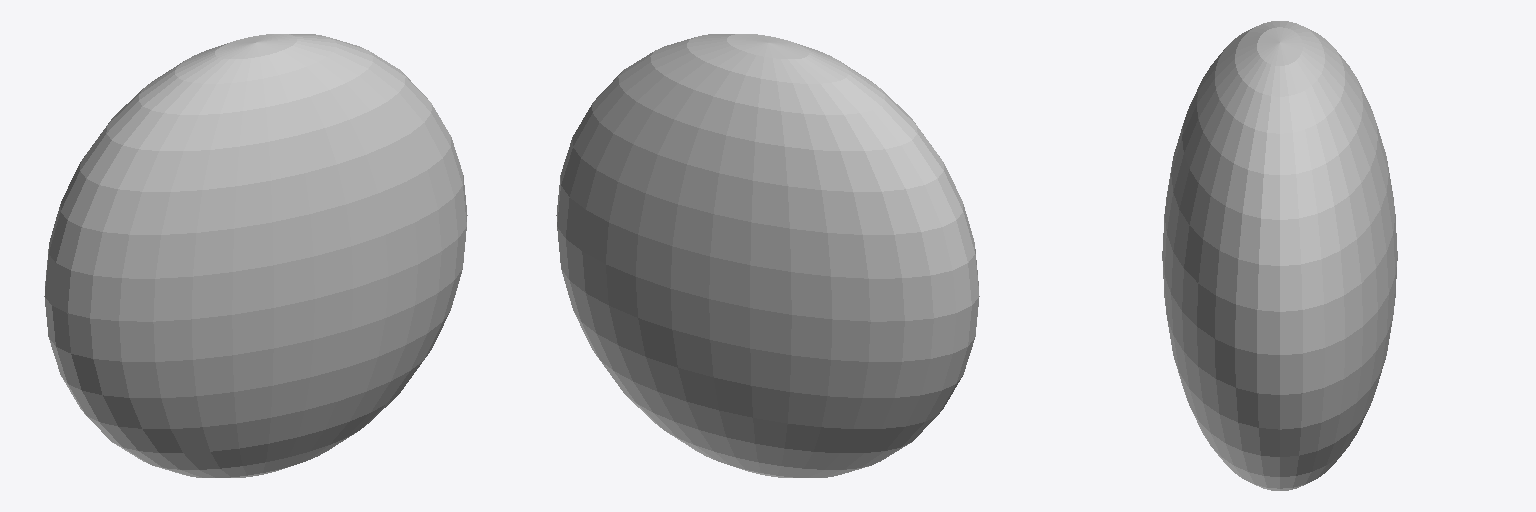
Rendered from ufo_top.obj.
3 views of the same model, side by side, from view 1: azimuth 30°, elevation 25°; view 2: azimuth 150°, elevation 25°; view 3: azimuth 270°, elevation 25° (orthographic).
Visible parts, largest first — view 1: Sphere; view 2: Sphere; view 3: Sphere.
Boxes of the visible parts, <box> form: Sphere: <box>44,34,467,477</box>; Sphere: <box>556,34,979,477</box>; Sphere: <box>1162,21,1397,490</box>.
Size of the model in its own units: 4 by 4 by 2.